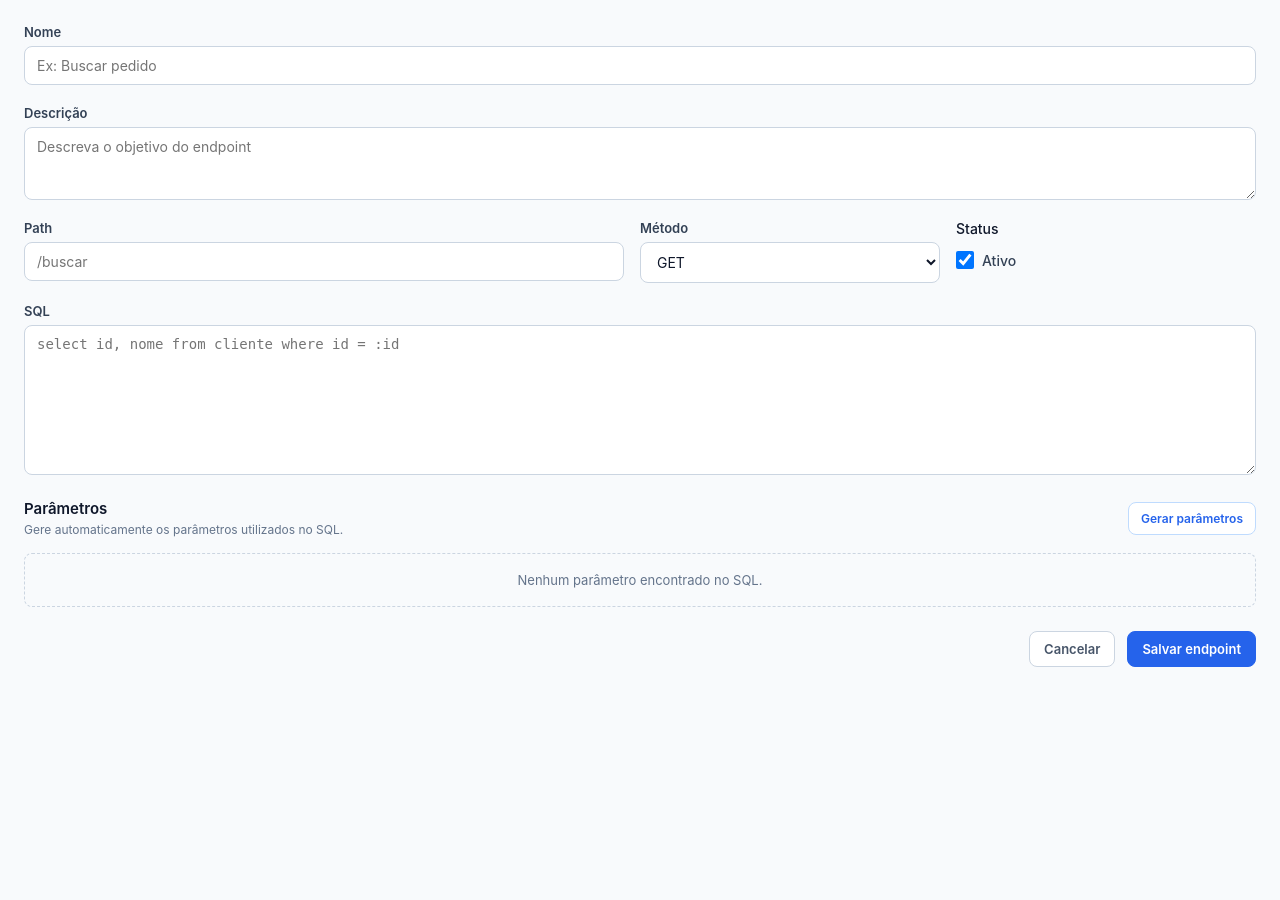
EndpointForm › gera parâmetros únicos a partir do SQL
In the text box labelled "SQL": coordinates (640, 400) [24,325,1256,475], type "select * from cliente where id = :id or pai_id = :id and status = :status"
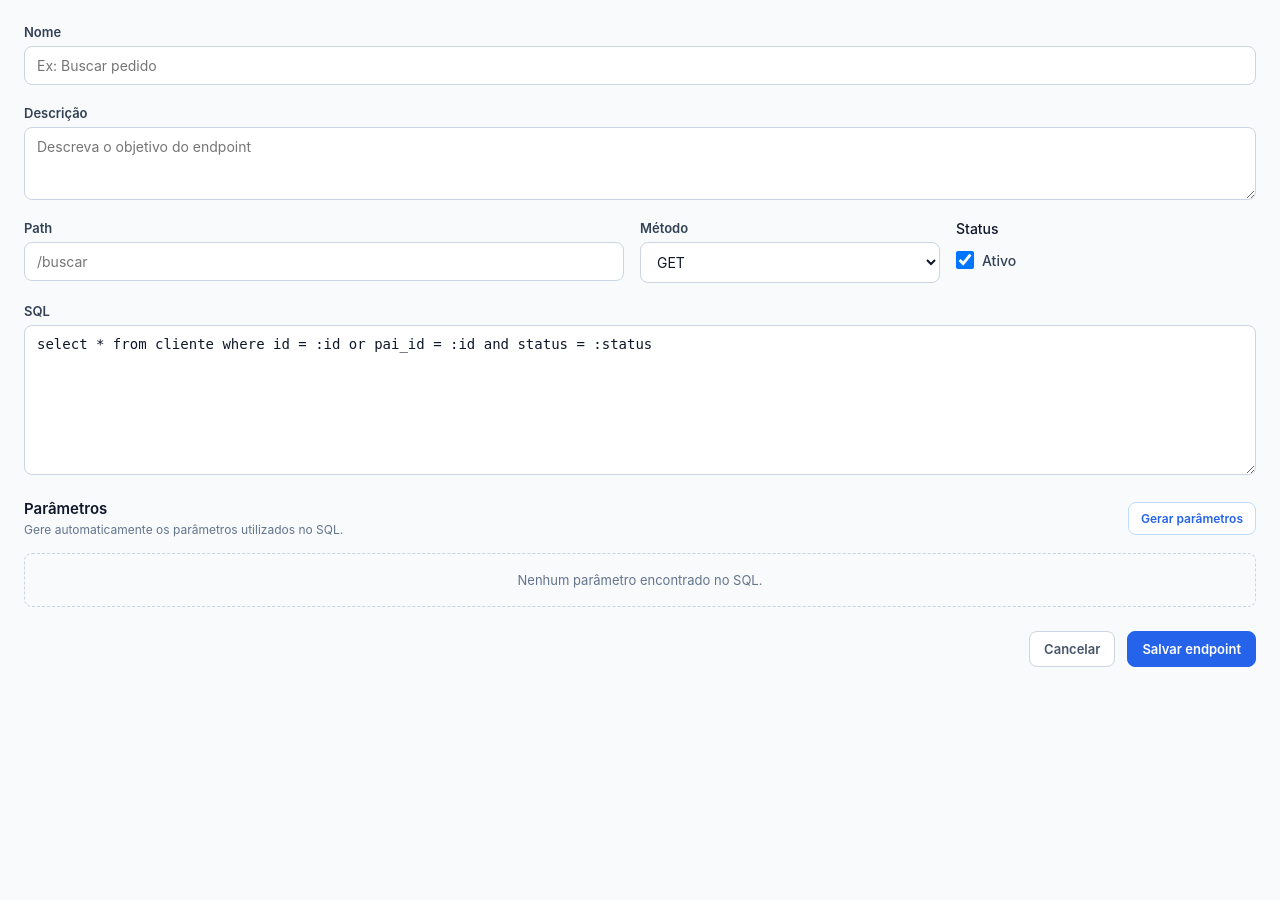
Click the button "Gerar parâmetros": coordinates (1192, 518) [1128,502,1256,534]
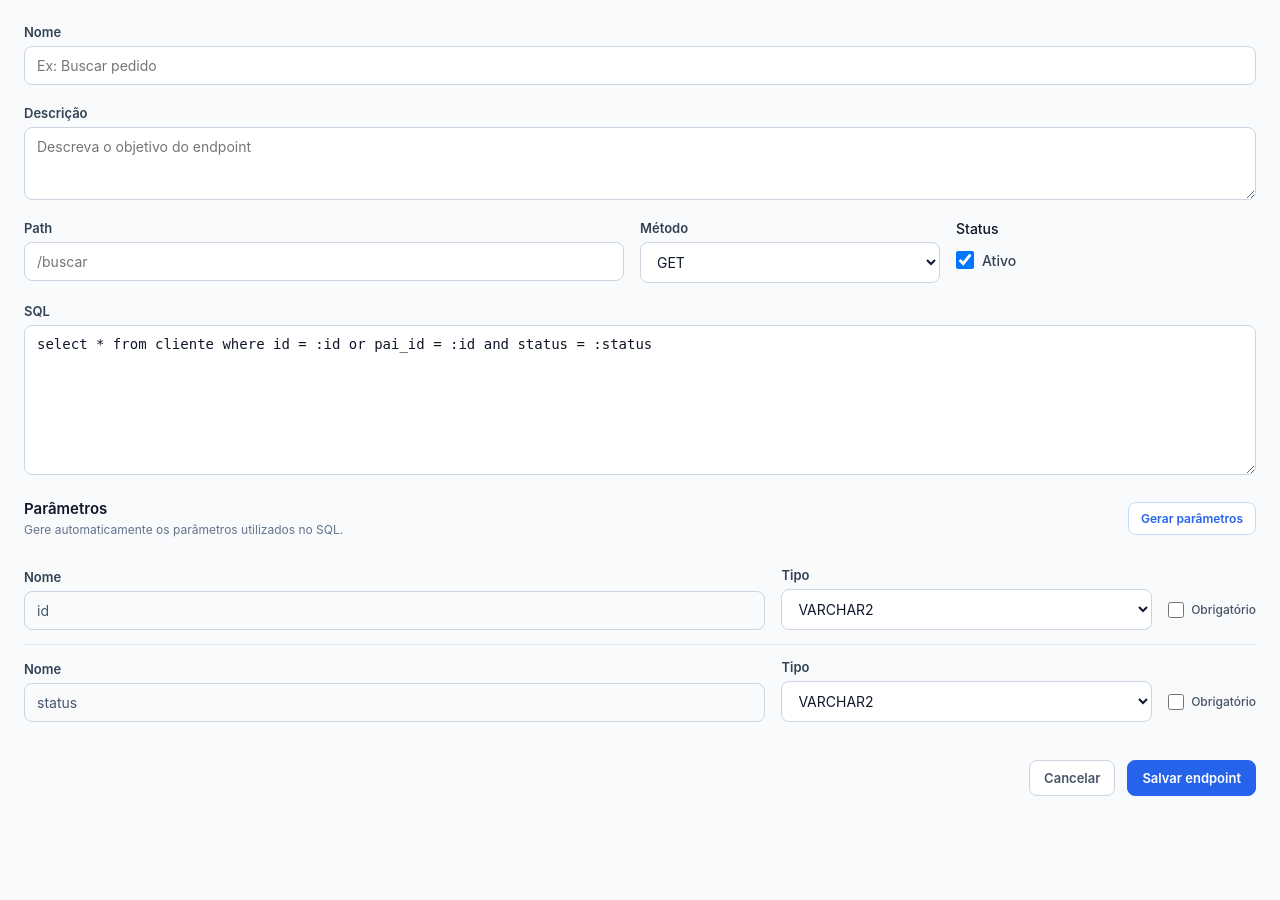
Result: the 2nd field showing "id" is shown at [24,591,765,630]
Result: the 3rd field showing "status" is shown at [24,683,765,722]
